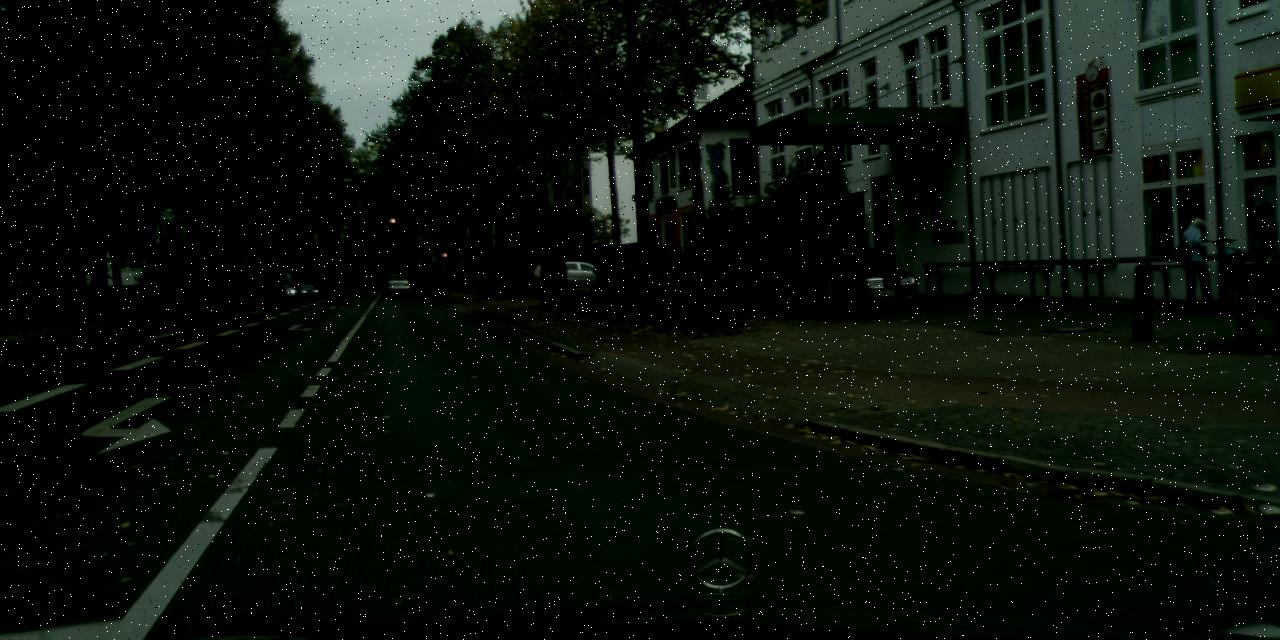ped: (1180, 216, 1218, 310), (596, 250, 612, 290), (538, 256, 552, 293), (551, 256, 565, 292), (438, 267, 448, 292)
